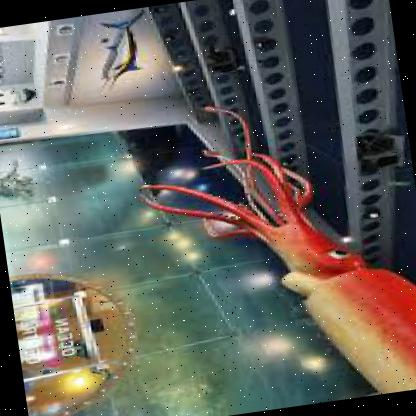colossal_squid: (132, 99, 415, 415)
